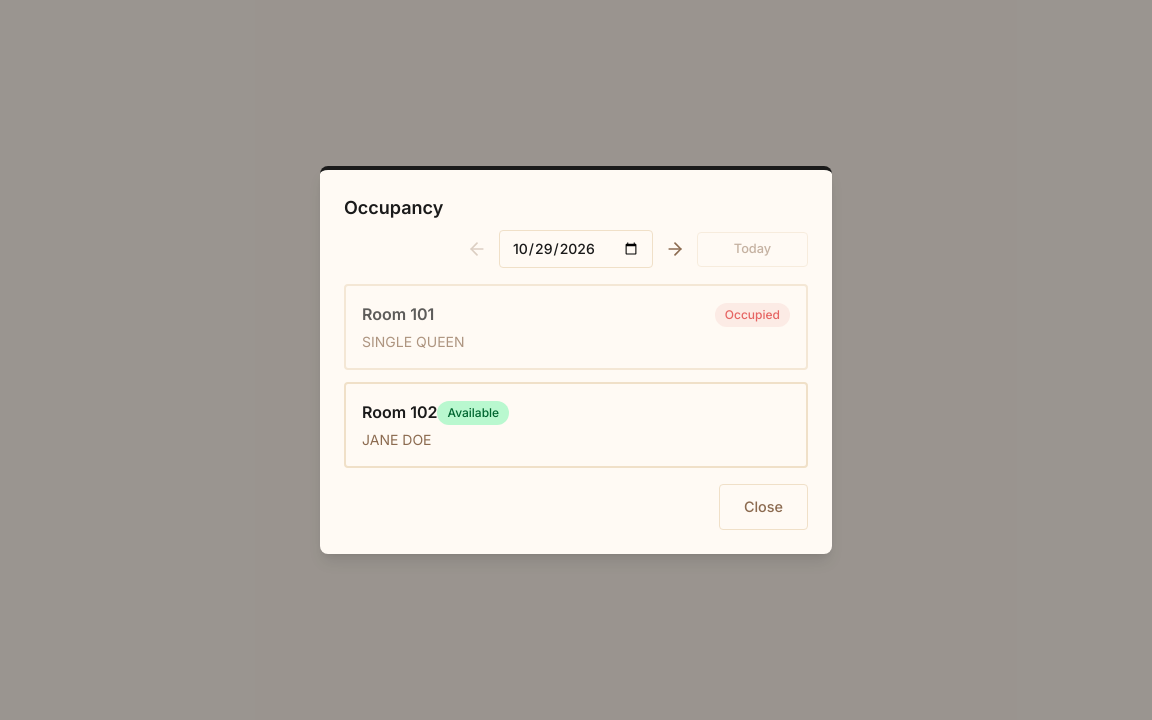
Test: OccupancyModal › re-derives occupancy from booking dates, not room.status, once viewing a future date
The width and height of the screenshot is (1152, 720).
Room 102 (id 1) has status AVAILABLE but is booked for the next 10 days.
Click the button named "Next day". click: (675, 250)
box: top-left (665, 240), bottom-right (685, 260)
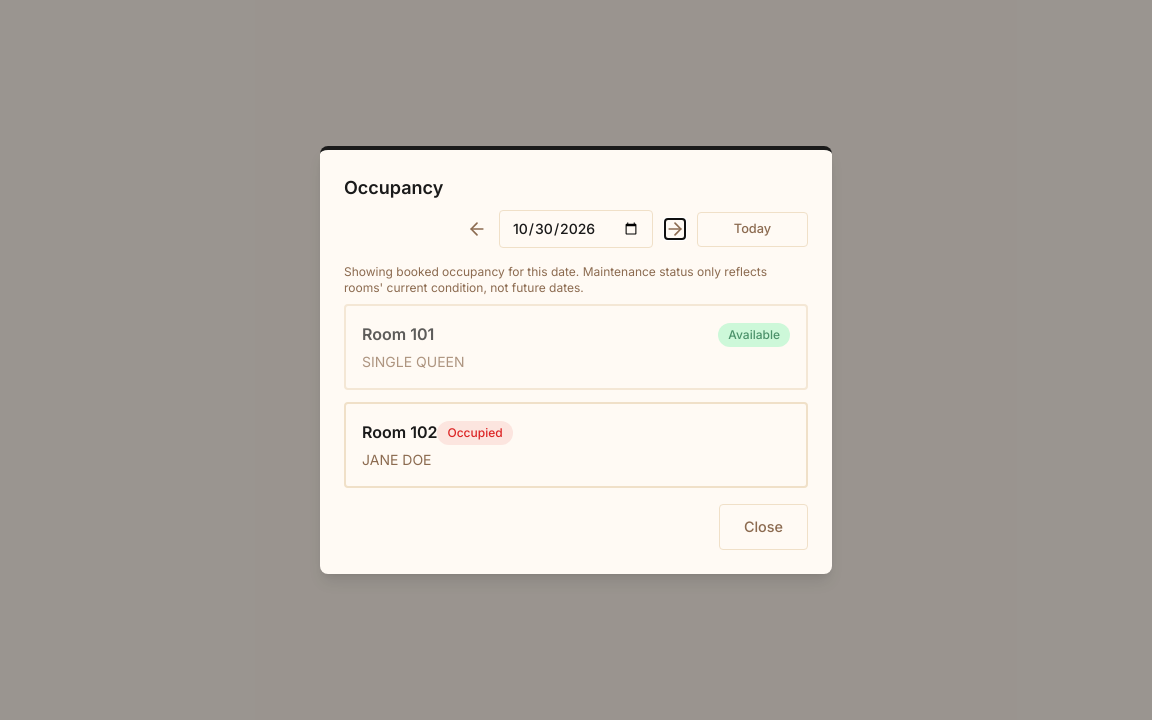
Expected: the button "Room 102 Occupied JANE DOE" is shown, top-left (344, 402), bottom-right (808, 488)
Now the text "Showing booked occupancy for this date. Maintenance status only reflects rooms' current condition, not future dates." is shown, box top-left (344, 264), bottom-right (767, 296)
